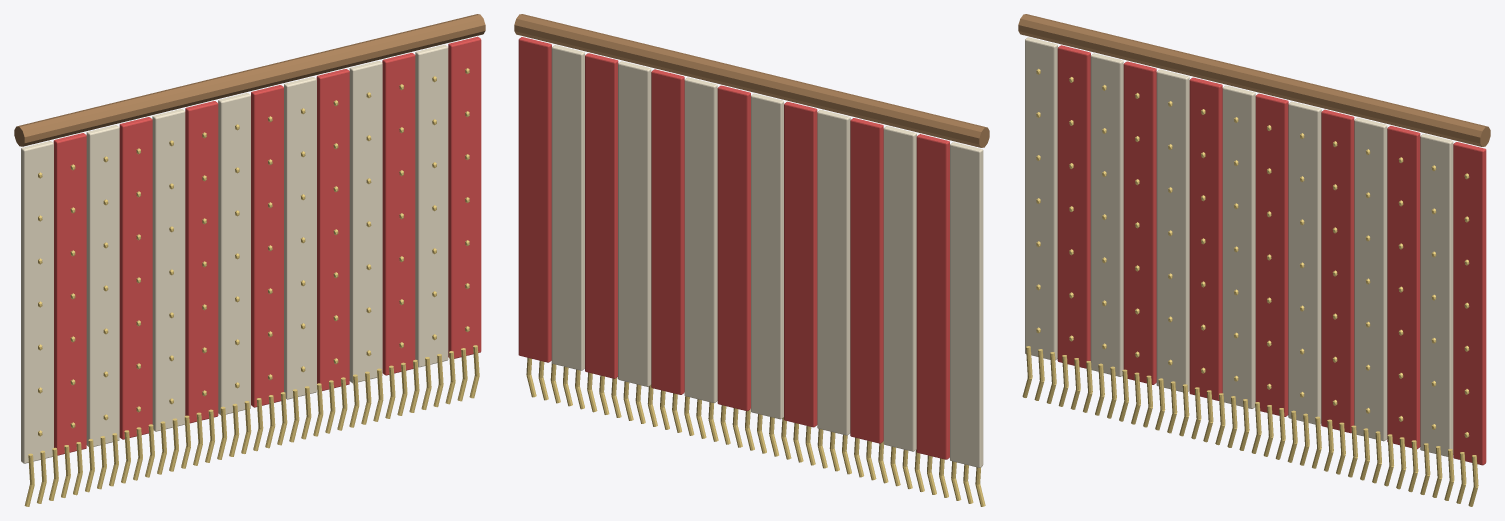
The model's file is stage_kouhaku_curtain.glb.
3 renders of one model, left to right at view 1: azimuth 30°, elevation 25°; view 2: azimuth 150°, elevation 25°; view 3: azimuth 330°, elevation 25°, orthographic.
Parts seen in each view (by area): view 1: Separate white or red kōhaku curtain stripe.004, Separate white or red kōhaku curtain stripe.012, Separate white or red kōhaku curtain stripe.013, Red-and-white ceremony curtain rod, Separate white or red kōhaku curtain stripe.005, Separate white or red kōhaku curtain stripe.011, Separate white or red kōhaku curtain stripe.003, Separate white or red kōhaku curtain stripe.002, Separate white or red kōhaku curtain stripe.010, Separate white or red kōhaku curtain stripe.008, Separate white or red kōhaku curtain stripe, Separate white or red kōhaku curtain stripe.001 (+3 smaller); view 2: Separate white or red kōhaku curtain stripe.002, Separate white or red kōhaku curtain stripe.005, Separate white or red kōhaku curtain stripe.007, Separate white or red kōhaku curtain stripe.010, Separate white or red kōhaku curtain stripe.001, Separate white or red kōhaku curtain stripe.003, Separate white or red kōhaku curtain stripe.009, Separate white or red kōhaku curtain stripe, Separate white or red kōhaku curtain stripe.004, Separate white or red kōhaku curtain stripe.008, Separate white or red kōhaku curtain stripe.012, Separate white or red kōhaku curtain stripe.013 (+3 smaller); view 3: Red-and-white ceremony curtain rod, Separate white or red kōhaku curtain stripe.002, Separate white or red kōhaku curtain stripe.013, Separate white or red kōhaku curtain stripe.001, Separate white or red kōhaku curtain stripe.010, Separate white or red kōhaku curtain stripe.009, Separate white or red kōhaku curtain stripe.005, Separate white or red kōhaku curtain stripe.003, Separate white or red kōhaku curtain stripe.006, Separate white or red kōhaku curtain stripe.004, Separate white or red kōhaku curtain stripe.008, Separate white or red kōhaku curtain stripe.011 (+3 smaller).
Boxes of the visible parts, bbox=[...] form: Separate white or red kōhaku curtain stripe.004: bbox=[152, 109, 185, 431]; Separate white or red kōhaku curtain stripe.012: bbox=[415, 44, 448, 367]; Separate white or red kōhaku curtain stripe.013: bbox=[448, 36, 481, 358]; Red-and-white ceremony curtain rod: bbox=[14, 14, 485, 146]; Separate white or red kōhaku curtain stripe.005: bbox=[185, 101, 218, 423]; Separate white or red kōhaku curtain stripe.011: bbox=[382, 52, 415, 375]; Separate white or red kōhaku curtain stripe.003: bbox=[119, 117, 152, 439]; Separate white or red kōhaku curtain stripe.002: bbox=[86, 125, 119, 446]; Separate white or red kōhaku curtain stripe.010: bbox=[349, 61, 382, 383]; Separate white or red kōhaku curtain stripe.008: bbox=[284, 77, 316, 399]; Separate white or red kōhaku curtain stripe: bbox=[21, 141, 53, 463]; Separate white or red kōhaku curtain stripe.001: bbox=[53, 133, 86, 455]; Separate white or red kōhaku curtain stripe.002: bbox=[883, 126, 916, 451]; Separate white or red kōhaku curtain stripe.005: bbox=[784, 101, 817, 427]; Separate white or red kōhaku curtain stripe.007: bbox=[717, 85, 750, 411]; Separate white or red kōhaku curtain stripe.010: bbox=[618, 61, 651, 386]; Separate white or red kōhaku curtain stripe.001: bbox=[916, 134, 949, 459]; Separate white or red kōhaku curtain stripe.003: bbox=[850, 118, 883, 443]; Separate white or red kōhaku curtain stripe.009: bbox=[651, 69, 684, 394]; Separate white or red kōhaku curtain stripe: bbox=[950, 142, 983, 467]; Separate white or red kōhaku curtain stripe.004: bbox=[817, 110, 850, 435]; Separate white or red kōhaku curtain stripe.008: bbox=[684, 77, 717, 402]; Separate white or red kōhaku curtain stripe.012: bbox=[551, 45, 584, 370]; Separate white or red kōhaku curtain stripe.013: bbox=[518, 37, 551, 362]; Red-and-white ceremony curtain rod: bbox=[1018, 14, 1490, 146]; Separate white or red kōhaku curtain stripe.002: bbox=[1090, 53, 1123, 376]; Separate white or red kōhaku curtain stripe.013: bbox=[1453, 142, 1486, 465]; Separate white or red kōhaku curtain stripe.001: bbox=[1057, 45, 1090, 368]; Separate white or red kōhaku curtain stripe.010: bbox=[1354, 117, 1387, 441]; Separate white or red kōhaku curtain stripe.009: bbox=[1321, 109, 1354, 433]; Separate white or red kōhaku curtain stripe.005: bbox=[1189, 77, 1222, 400]; Separate white or red kōhaku curtain stripe.003: bbox=[1123, 61, 1156, 384]; Separate white or red kōhaku curtain stripe.006: bbox=[1222, 85, 1255, 408]; Separate white or red kōhaku curtain stripe.004: bbox=[1156, 69, 1189, 392]; Separate white or red kōhaku curtain stripe.008: bbox=[1288, 101, 1321, 424]; Separate white or red kōhaku curtain stripe.011: bbox=[1387, 126, 1420, 449].
Size of the model in its own units: 1.95 by 1.53 by 0.0748.
